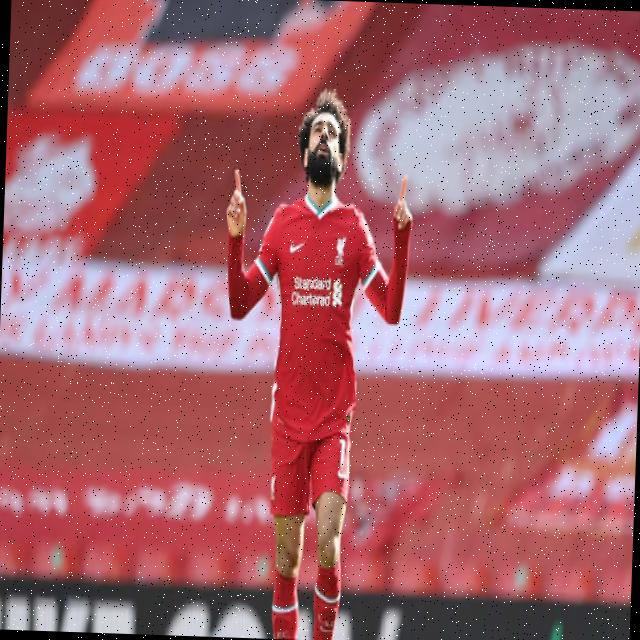Nike: (289, 242, 304, 254)
Standard Chartered: (291, 277, 344, 309)
